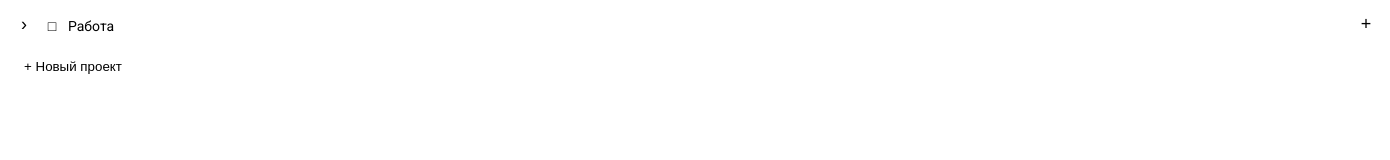
NavigationTree › FE-06 и FE-10: ограничивает глубину и закрывает меню по Escape
Check: the link "Работа" is shown, box [68,18,114,34]
Click the button "+" at (1366, 26), box [1354,14,1378,38]
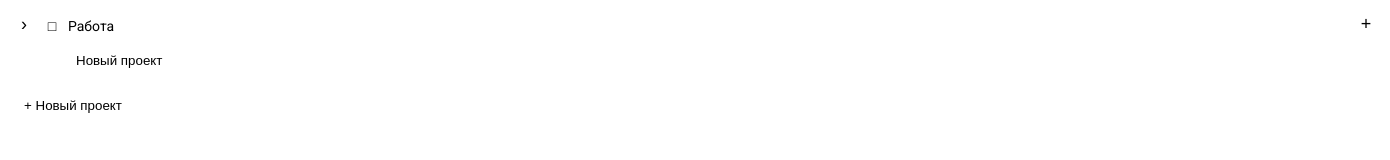
Press Escape
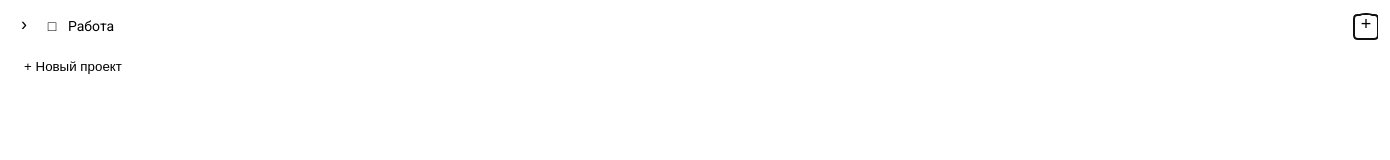
Check: the menu is gone
Click the button "+" at (1366, 26), box [1354,14,1378,38]
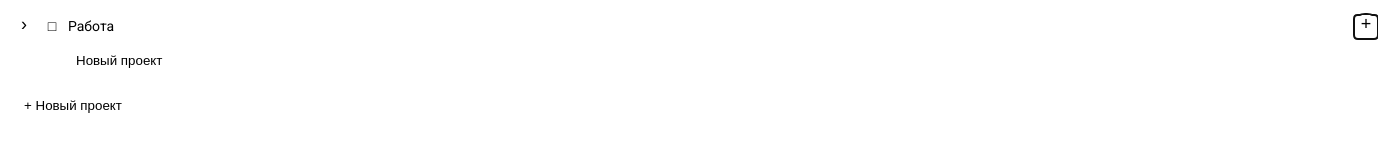
Click the menu item "Новый проект" at (119, 60), box [64,45,1378,76]
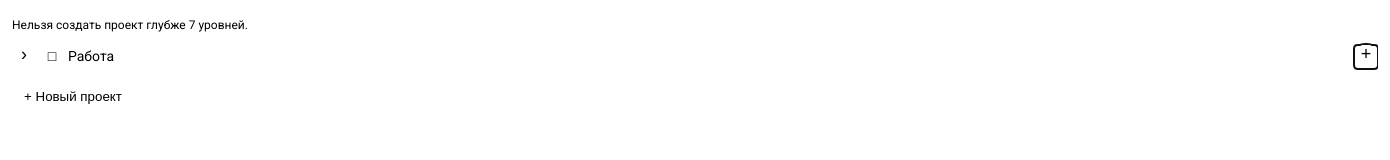
Check: the text "Нельзя создать проект глубже 7 уровней." is shown, box [12,18,248,32]
